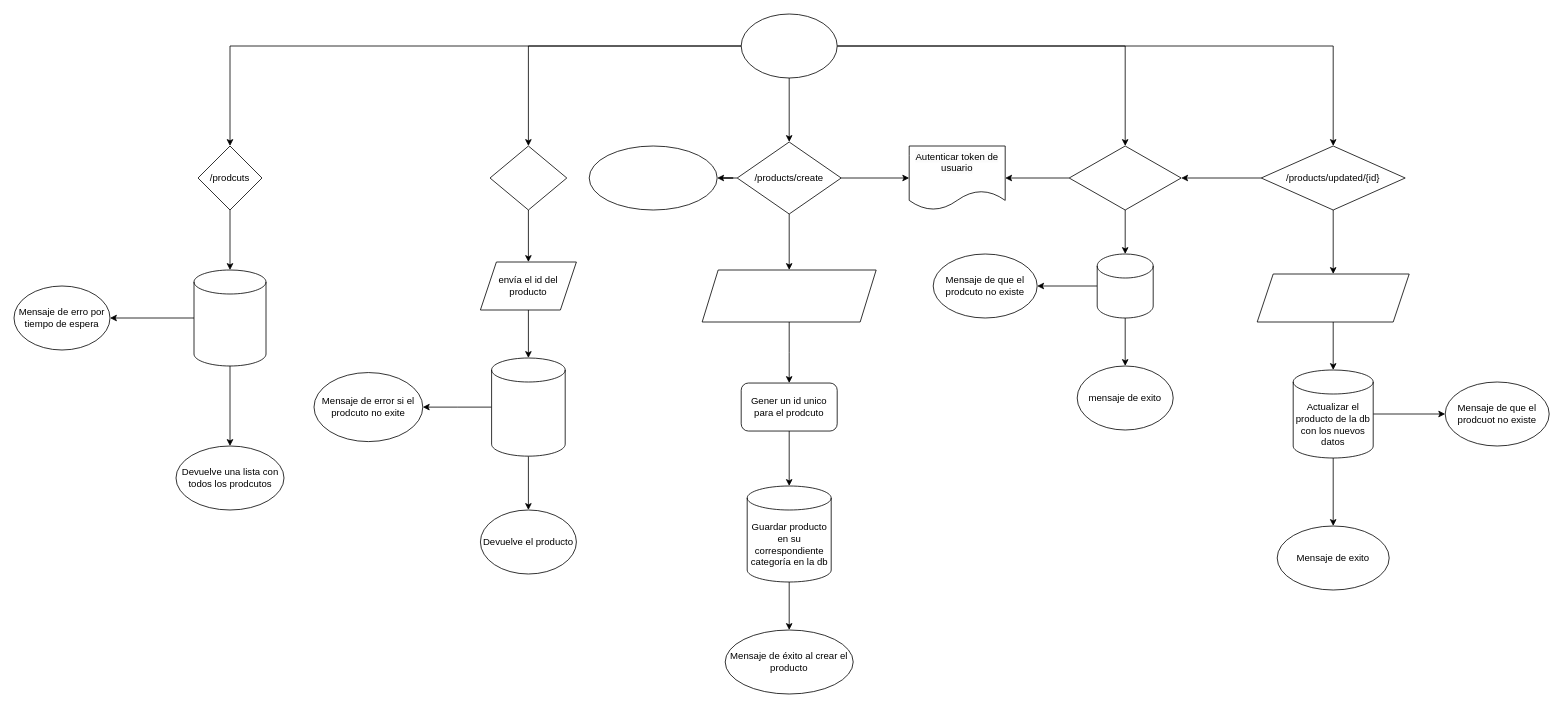
Image size: 1563x708. Some labels were removed from this diagram. The centre of each missing label's shape, as x and y in pixels:
"/products/delete/{id}" belongs at pixel 1124 177.
"/products/{id}" belongs at pixel 528 177.
"Borrar producto y id" belongs at pixel 1124 285.
"ingresar datos de producto, como nombre, categoría, precio etc.." belongs at pixel 788 295.
"Ingresar nuevos datos del producto" belongs at pixel 1332 297.
"Mensaje de error si el usuario no está autorizado" belongs at pixel 652 177.
"Obten el producto con el id de la db" belongs at pixel 528 406.
"Obtener todos los prodcutos de la db" belongs at pixel 229 317.
"Productos" belongs at pixel 788 45.
